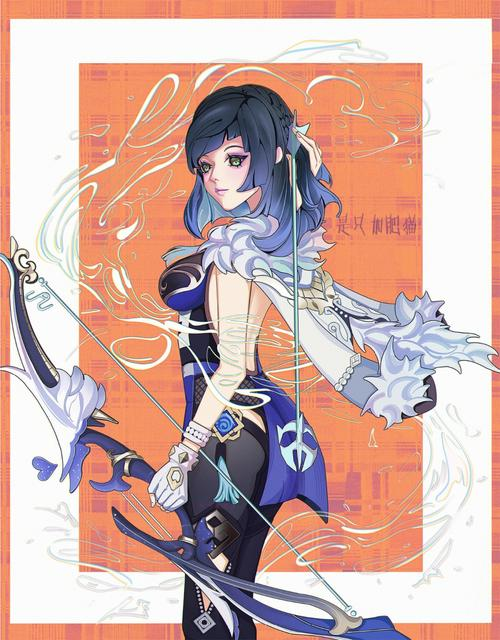夜兰: (154, 85, 326, 628)
